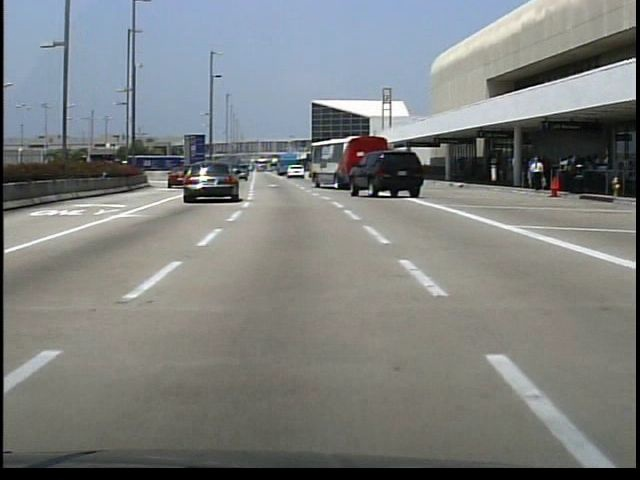person: (528, 156, 546, 194)
